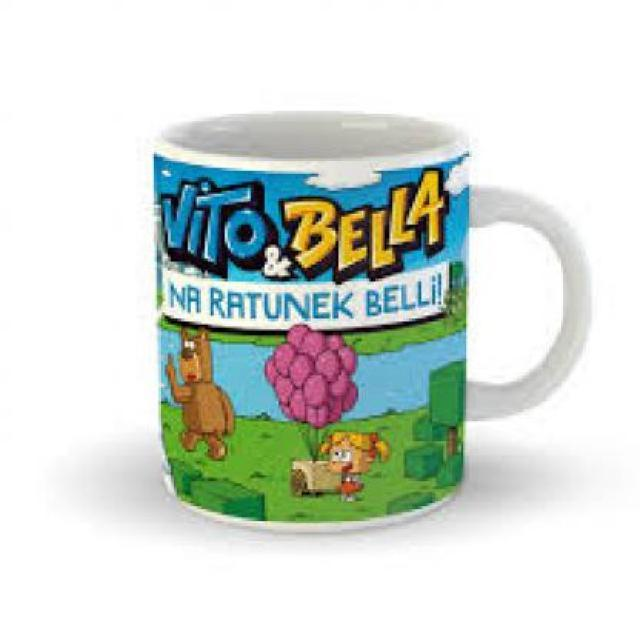cup: (148, 109, 597, 538)
